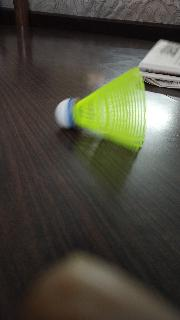shuttlecock: (54, 68, 144, 152)
